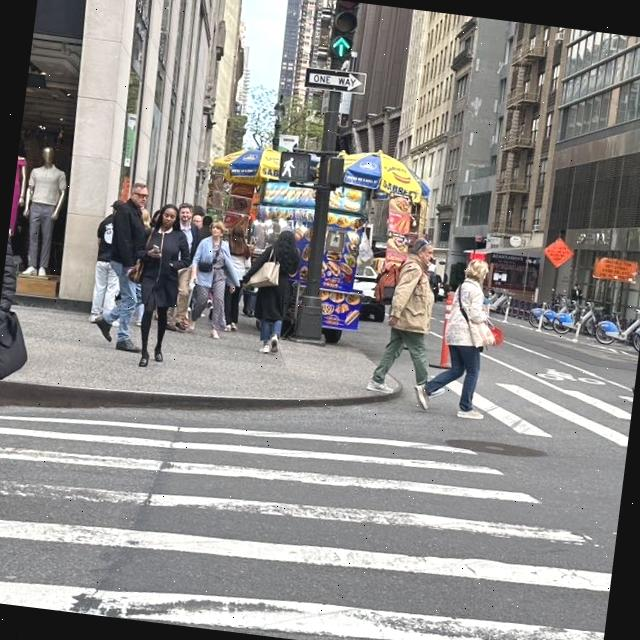curb: (0, 379, 384, 410)
